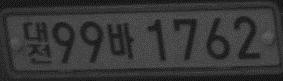1: (143, 18, 170, 62)
2: (232, 15, 260, 59)
6: (205, 17, 230, 59)
7: (172, 17, 198, 61)
9: (51, 21, 76, 64), (78, 20, 103, 63)
대전_V: (21, 21, 51, 65)
바: (106, 21, 134, 59)
